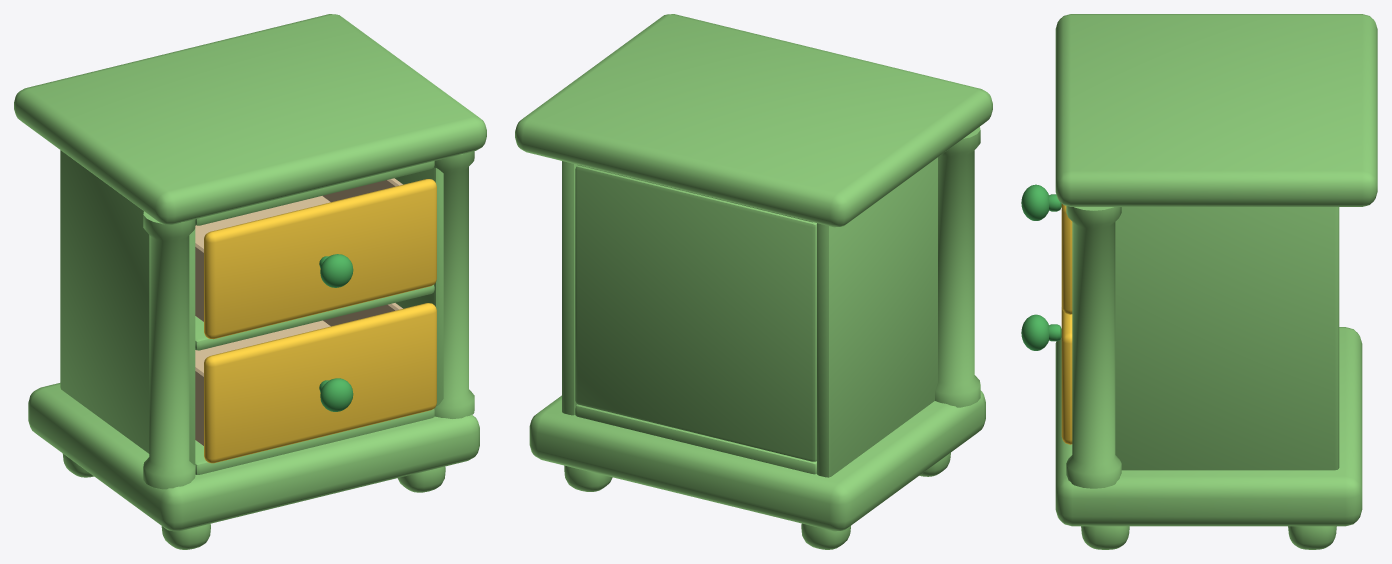
File: criado_classico_verde.glb
3 views of the same model, side by side, from view 1: azimuth 30°, elevation 25°; view 2: azimuth 150°, elevation 25°; view 3: azimuth 270°, elevation 25° (orthographic). The views are drawn at different scales.
Visible parts, largest first — view 1: criado_classico_verde, gaveta_2, gaveta_1; view 2: criado_classico_verde; view 3: criado_classico_verde, gaveta_1, gaveta_2.
Boxes of the visible parts, bbox=[...] form: criado_classico_verde: bbox=[14, 14, 486, 549]; gaveta_2: bbox=[195, 178, 436, 339]; gaveta_1: bbox=[195, 303, 436, 463]; criado_classico_verde: bbox=[515, 14, 992, 549]; criado_classico_verde: bbox=[1055, 14, 1377, 549]; gaveta_1: bbox=[1021, 307, 1072, 444]; gaveta_2: bbox=[1021, 184, 1072, 314].
Bounding box in the file's own units: 0.52 × 0.565 × 0.4646.
1 material, 1 textured.
